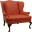chair: (1, 1, 32, 31)
